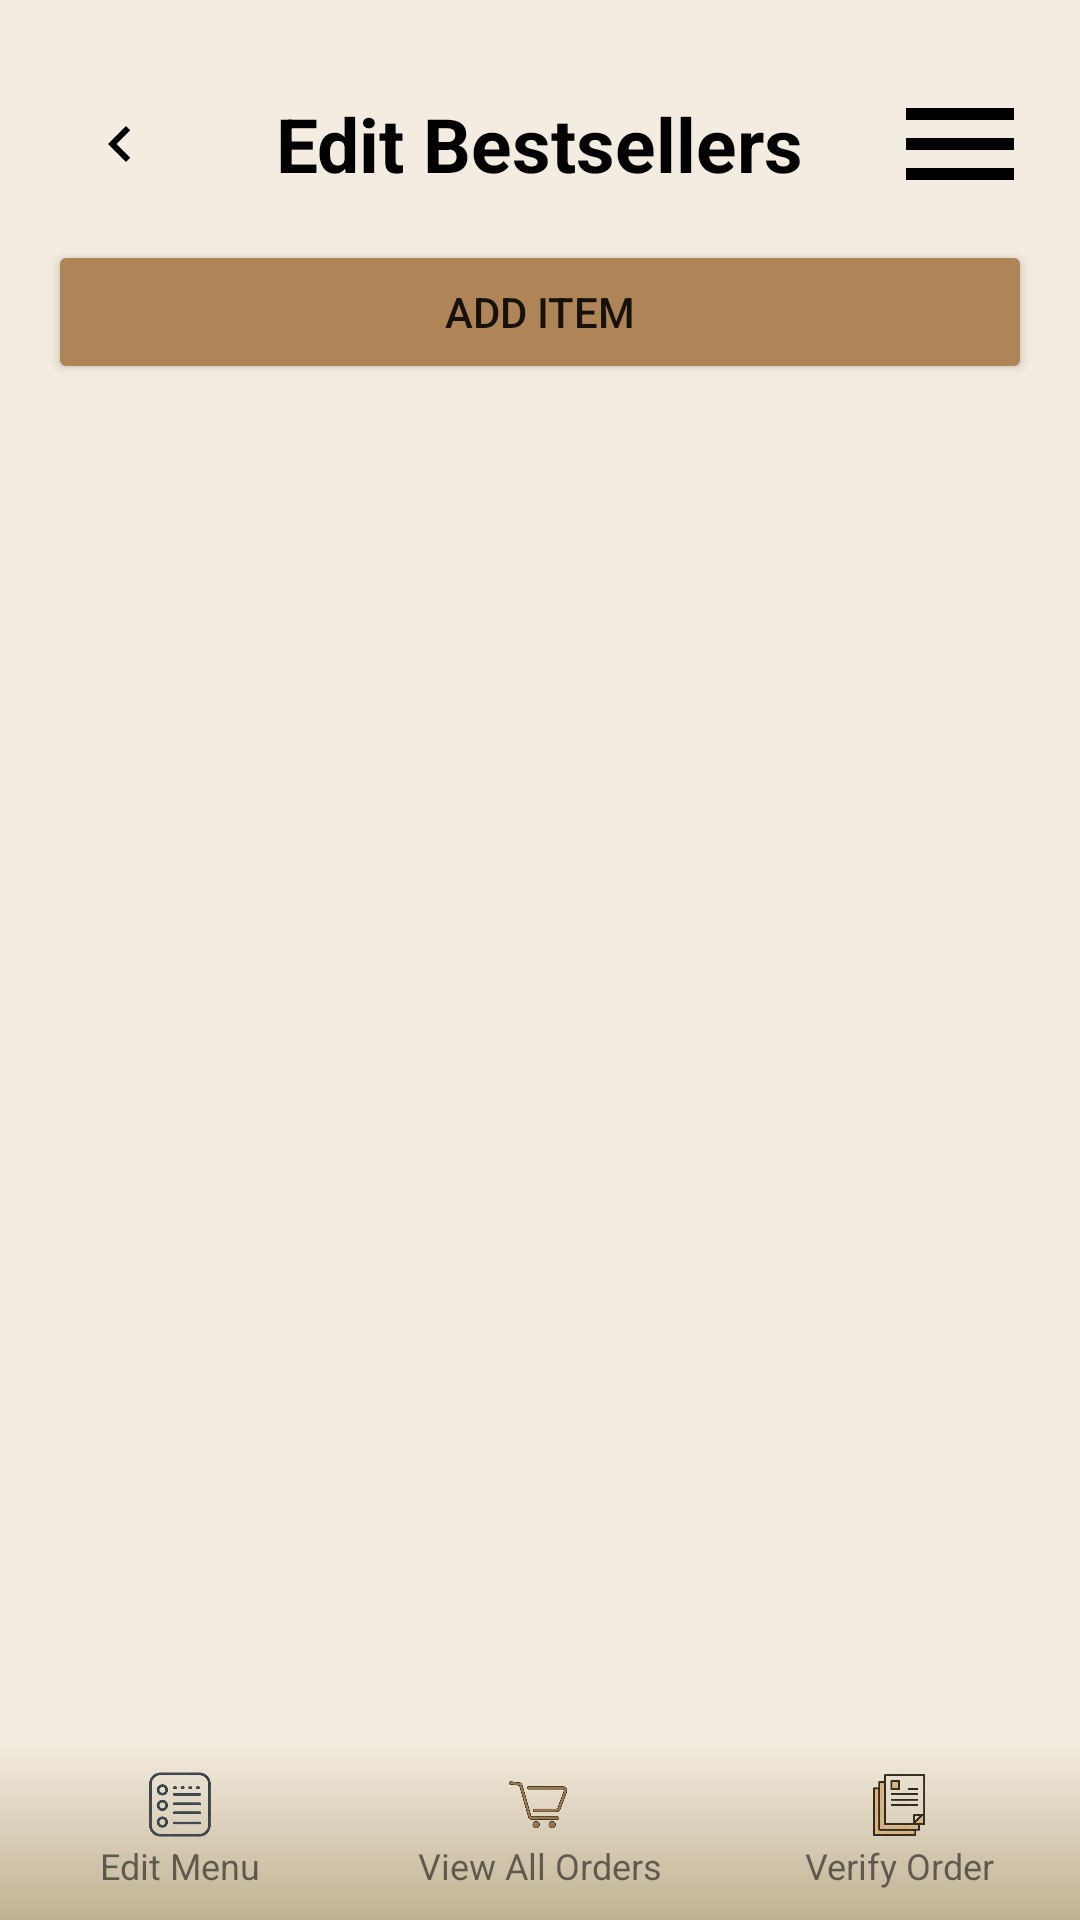

Screen size 1080w x 1920h. Icon name, then its box in pixels as (x1, y1, x2, y2):
Back: (108, 126, 130, 162)
cart: (504, 1781, 576, 1841)
